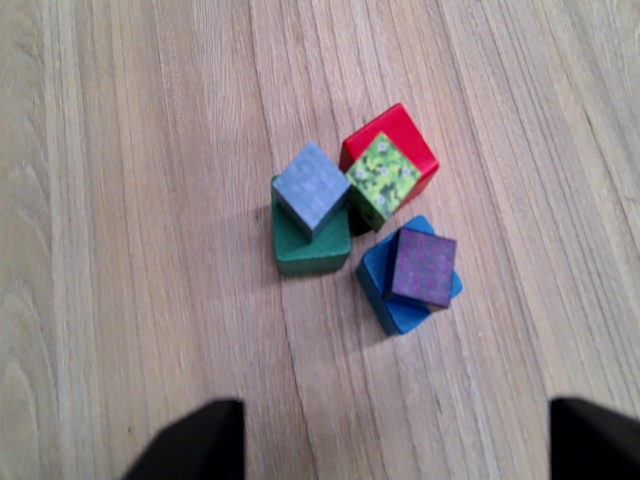brick: (393, 229, 460, 315)
grass: (343, 134, 417, 226)
stone: (273, 142, 347, 233)
